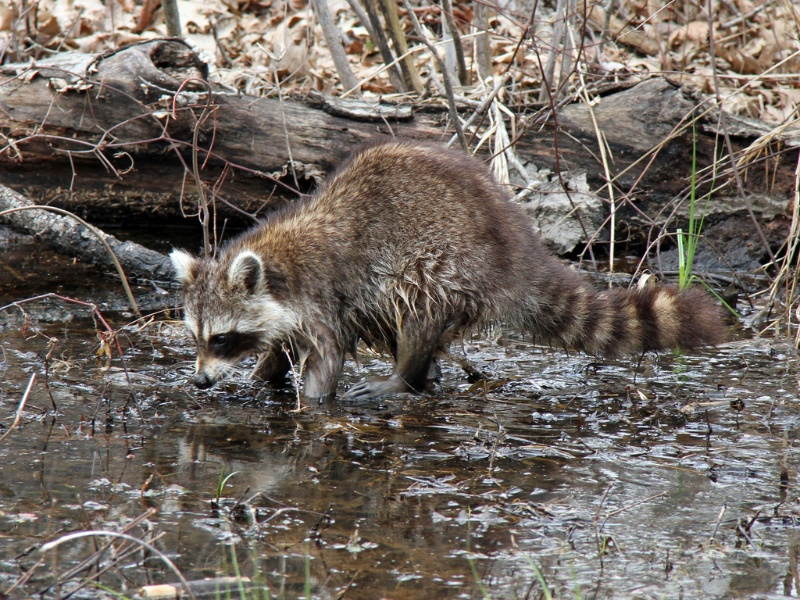raccoon: (169, 141, 729, 425)
